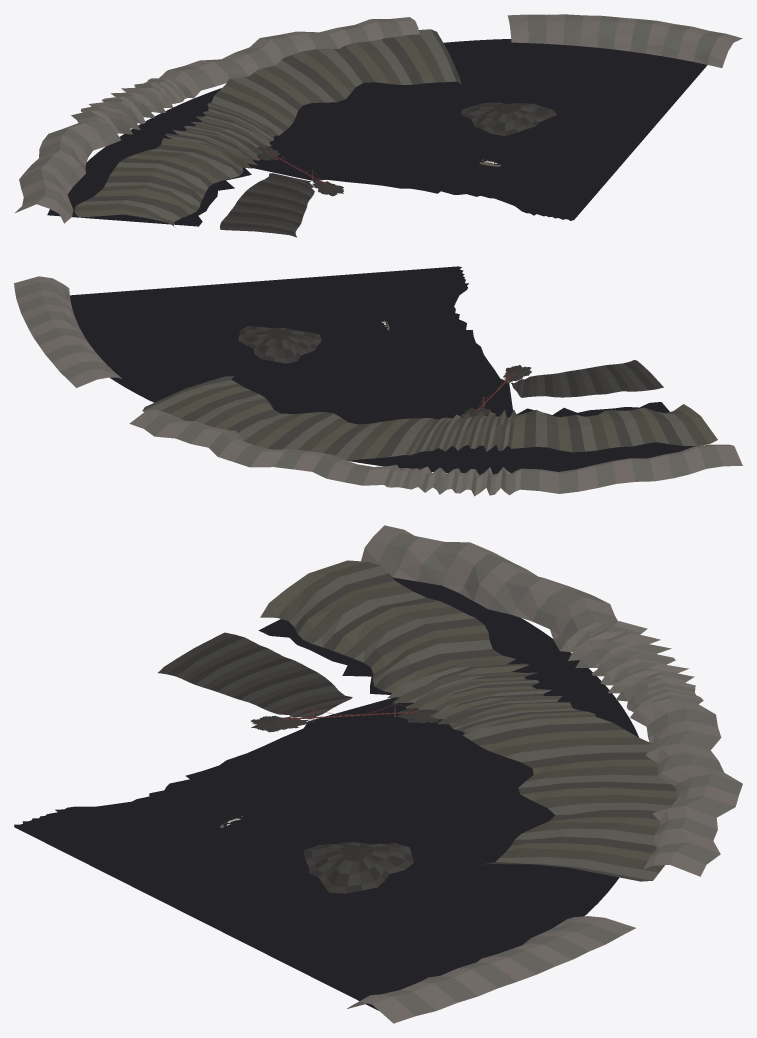
Rendered from skyline-bg.glb.
The picture shows the model from 3 angles, top to bottom: view 1: azimuth 30°, elevation 25°; view 2: azimuth 150°, elevation 25°; view 3: azimuth 270°, elevation 25°; orthographic projection. The views are drawn at different scales.
Parts seen in each view (by area): view 1: sky_bg_land, sky_water; view 2: sky_water, sky_bg_land; view 3: sky_water, sky_bg_land.
Boxes of the visible parts, x1,y1,x2,y2 form: sky_bg_land: (15,14,742,237); sky_water: (47,39,707,226); sky_water: (70,266,695,474); sky_bg_land: (14,276,742,496); sky_water: (14,577,638,1010); sky_bg_land: (158,525,742,1023).
Bounding box in the file's own units: 273 × 8.22 × 170.
Materials: 2 (1 with a texture image).
